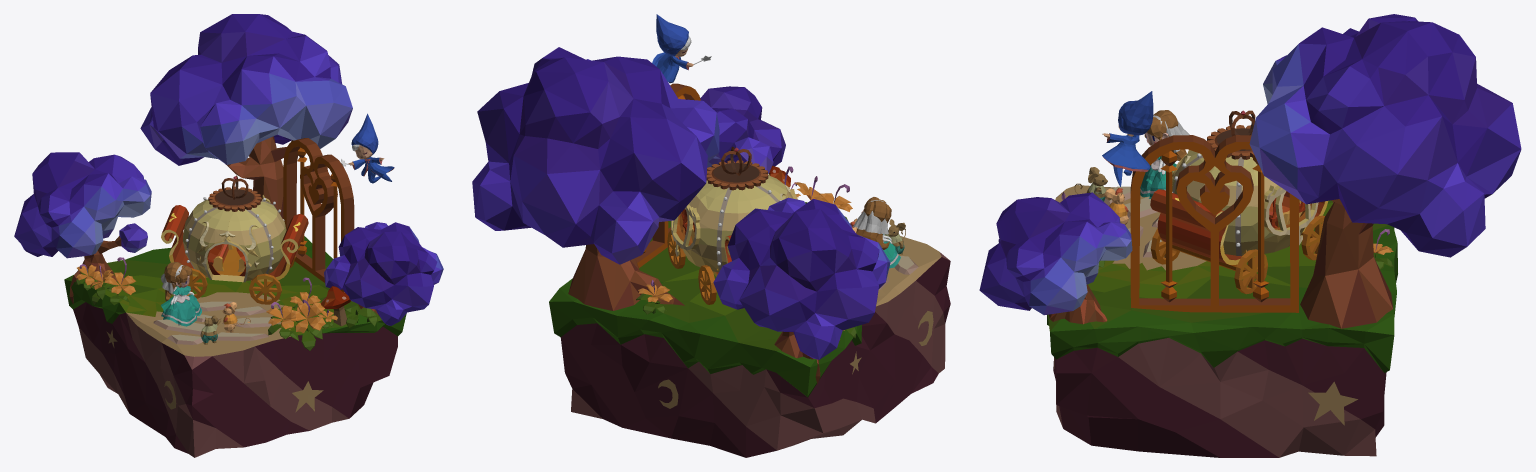
Rendered from 0095_cinderella.fbx.
The picture shows the model from 3 angles, left to right: view 1: azimuth 30°, elevation 25°; view 2: azimuth 150°, elevation 25°; view 3: azimuth 270°, elevation 25°; orthographic projection. The views are drawn at different scales.
Visible parts, largest first — view 1: Plate, leaf_02, leaf_03, leaf_01, door, carriage01, carriage02, wood_02, carriage05, carriage04, flower02_1, Cinderella_Dress002 (+9 smaller); view 2: Plate, leaf_02, leaf_03, leaf_01, carriage02, wood_02, carriage04, door, Head, carriage03, Cinderella_Hair001, flower01_4 (+3 smaller); view 3: Plate, leaf_02, leaf_01, door, wood_02, carriage01, carriage05, carriage007, fairy_Head_Body, Head, carriage03, carriage04 (+5 smaller).
Part boxes in pixels (x1,y1,x2,y2): Plate: (64,236,406,457); leaf_02: (140,14,352,165); leaf_03: (14,152,151,258); leaf_01: (324,222,443,325); door: (283,138,354,291); carriage01: (226,199,286,282); carriage02: (183,199,237,280); wood_02: (225,136,299,245); carriage05: (161,205,308,281); carriage04: (208,175,261,211); flower02_1: (286,299,325,350); Cinderella_Dress002: (161,286,201,326); Plate: (549,221,950,457); leaf_02: (472,47,719,264); leaf_03: (713,197,890,359); leaf_01: (700,86,785,173); carriage02: (680,178,797,272); wood_02: (568,244,684,310); carriage04: (706,146,768,190); door: (635,83,700,267); Head: (656,14,691,56); carriage03: (671,204,700,256); Cinderella_Hair001: (853,211,889,249); flower01_4: (636,280,672,314); Plate: (1047,185,1397,457); leaf_02: (1249,21,1521,257); leaf_01: (979,192,1132,315); door: (1130,135,1299,312); wood_02: (1300,199,1392,328); carriage01: (1172,150,1289,256); carriage05: (1150,189,1328,264); carriage007: (1150,228,1267,294); fairy_Head_Body: (1102,133,1150,171); Head: (1118,91,1153,135); carriage03: (1264,185,1318,245); carriage04: (1207,110,1255,159).
Bounding box in the file's own units: 15.94 × 14.15 × 16.51.
